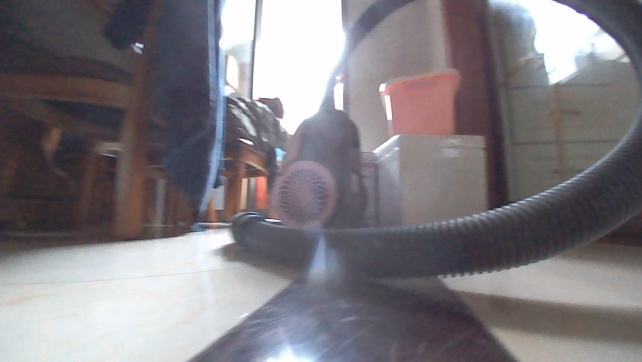dining_table1: (0, 0, 286, 237)
